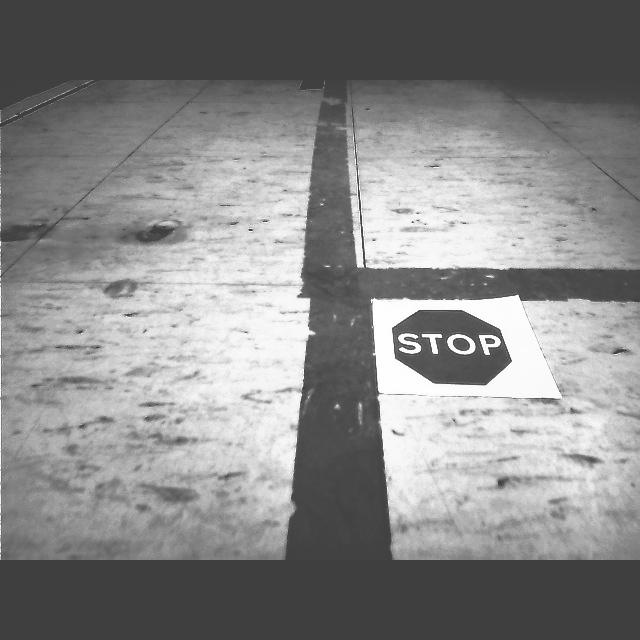STOP: (393, 310, 511, 385)
